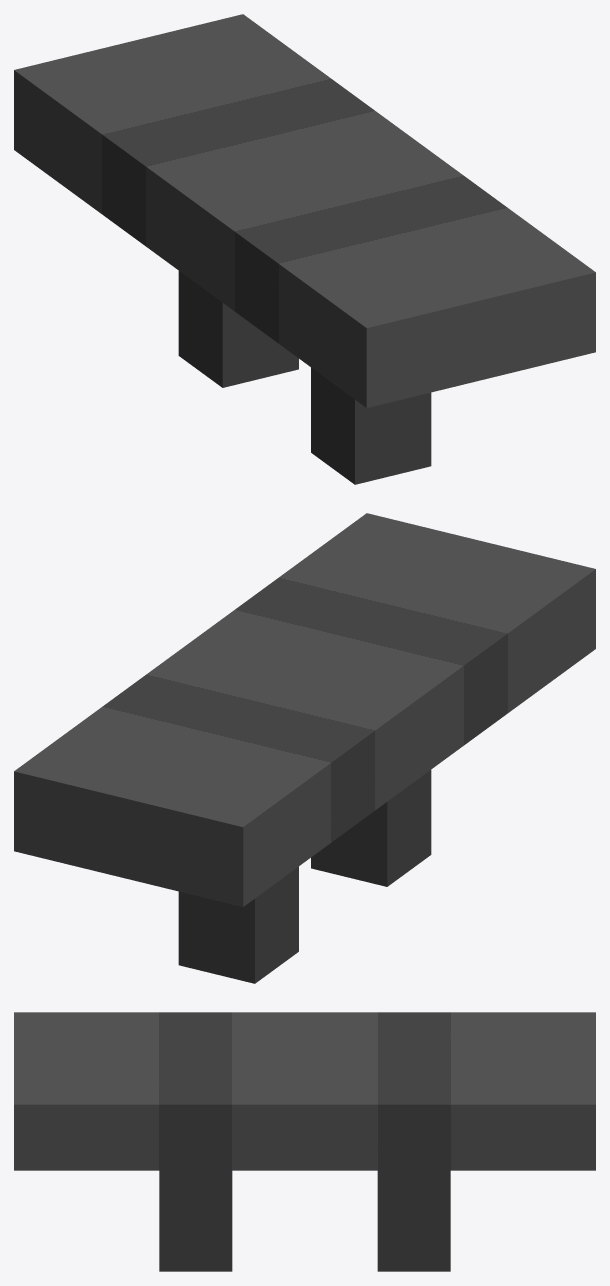
The model's file is obj_chair2.fbx.
3 renders of one model, top to bottom at view 1: azimuth 30°, elevation 25°; view 2: azimuth 150°, elevation 25°; view 3: azimuth 270°, elevation 25°, orthographic. The views are drawn at different scales.
Visible parts, largest first — view 1: obj_chair2; view 2: obj_chair2; view 3: obj_chair2.
Boxes of the visible parts, left/top/right/bottom form: obj_chair2: left=14, top=14, right=595, bottom=484; obj_chair2: left=14, top=513, right=595, bottom=983; obj_chair2: left=14, top=1012, right=595, bottom=1271.
Bounding box in the file's own units: 0.3 × 0.8 × 0.3.
Materials: 1 (1 with a texture image).
